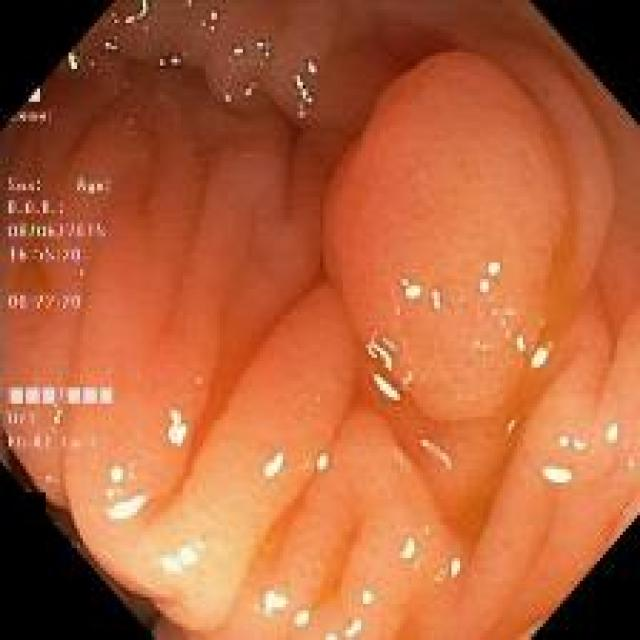Polyps: (325, 52, 574, 421)
